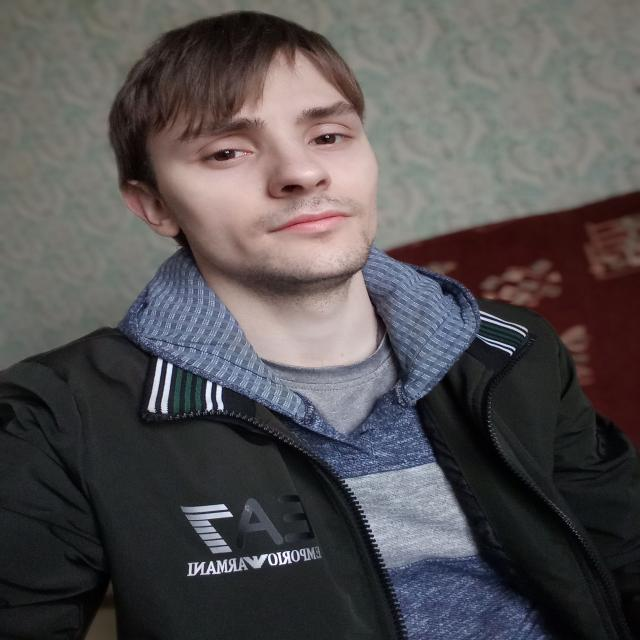earlobe: (154, 216, 182, 238)
eye: (198, 146, 255, 166), (306, 130, 350, 148)
nose: (270, 183, 348, 201)
wholeear: (120, 179, 182, 238)
